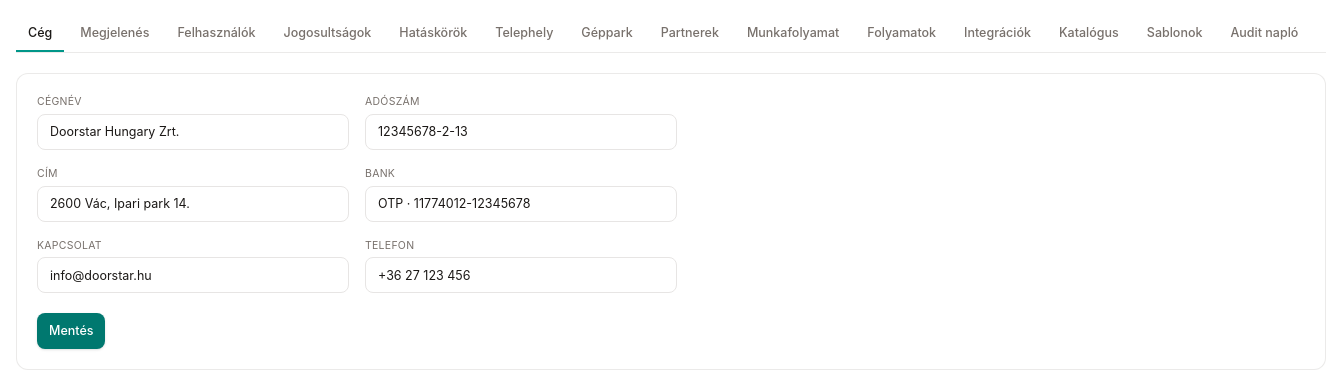
Test case: SettingsPage › switches to facilities tab
This screenshot has width=1343, height=387.
Click the button "Telephely" at [524, 34], box left=483, top=16, right=565, bottom=52
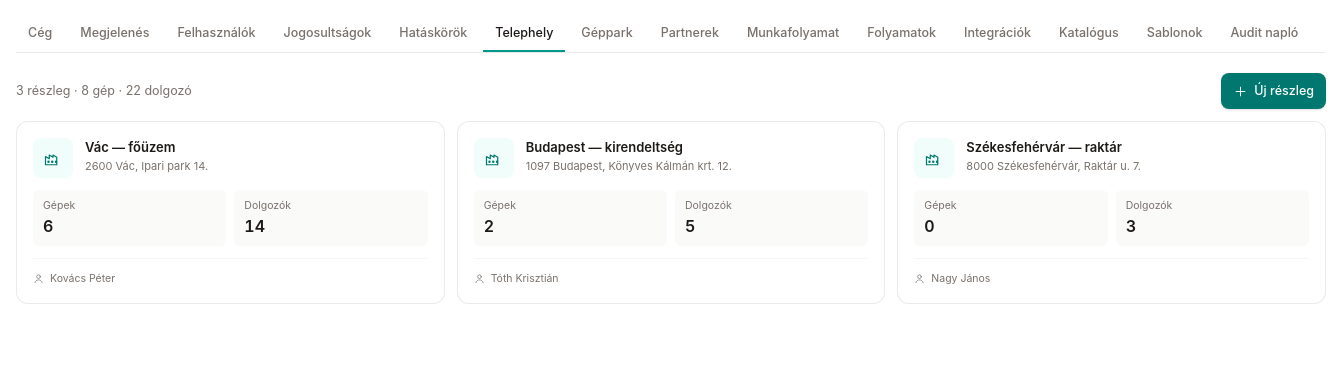
Expected: the text "Vác — főüzem" is shown, left=85, top=139, right=176, bottom=155
